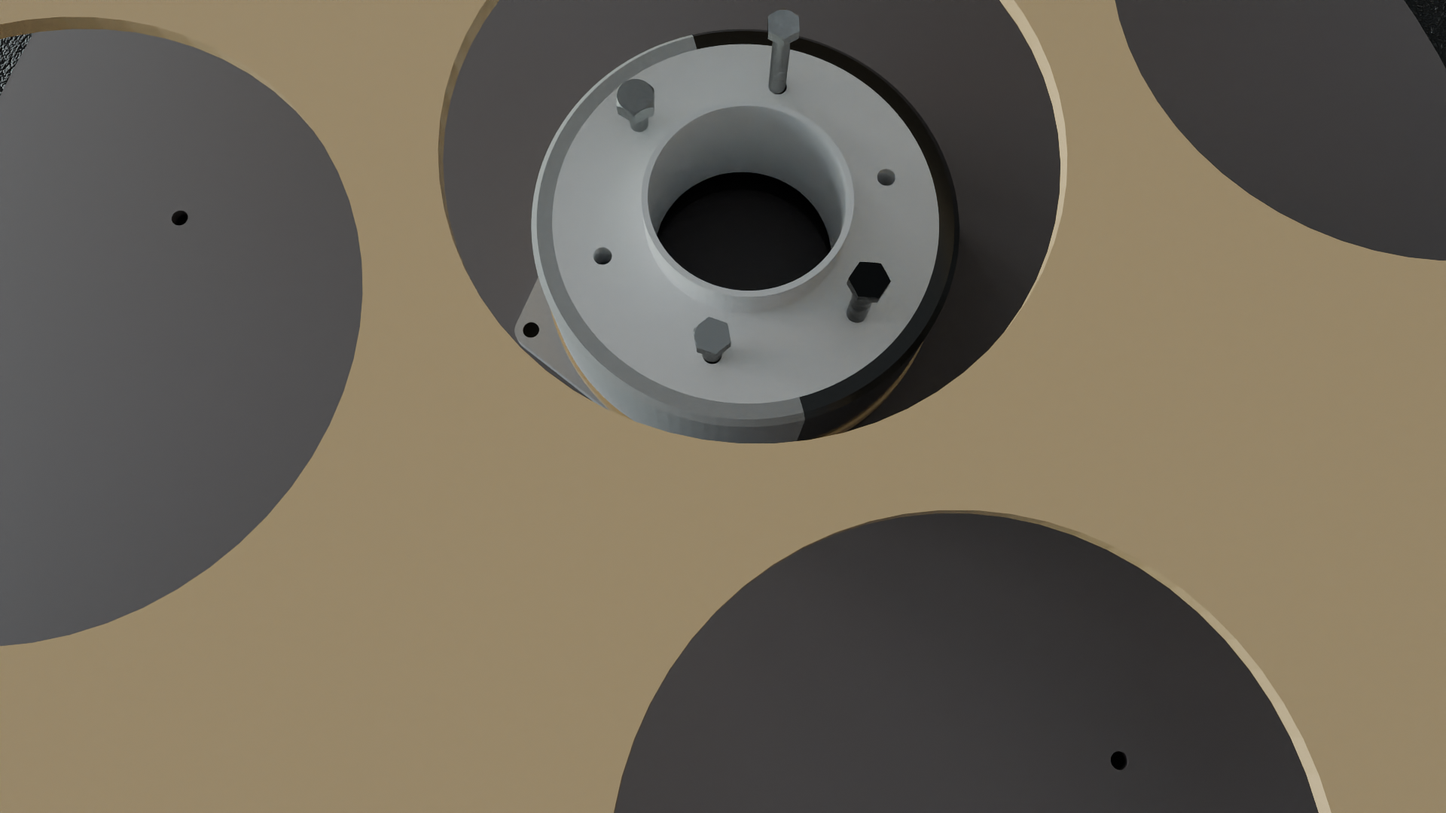bolt: (849, 262, 891, 298), (694, 317, 731, 355), (617, 79, 654, 116), (767, 8, 800, 39)
